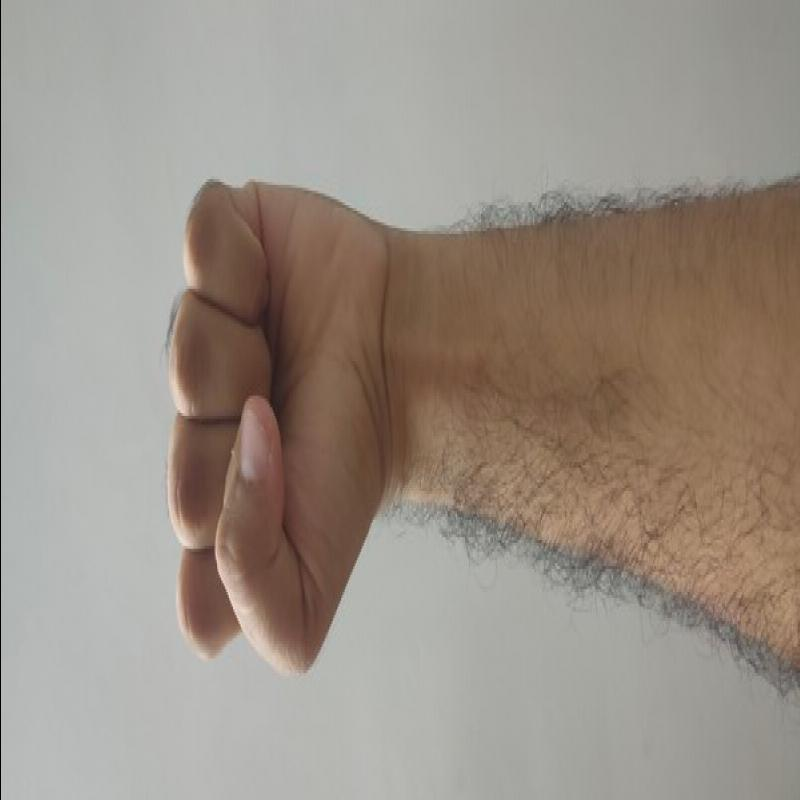Mushti: (144, 151, 411, 695)
